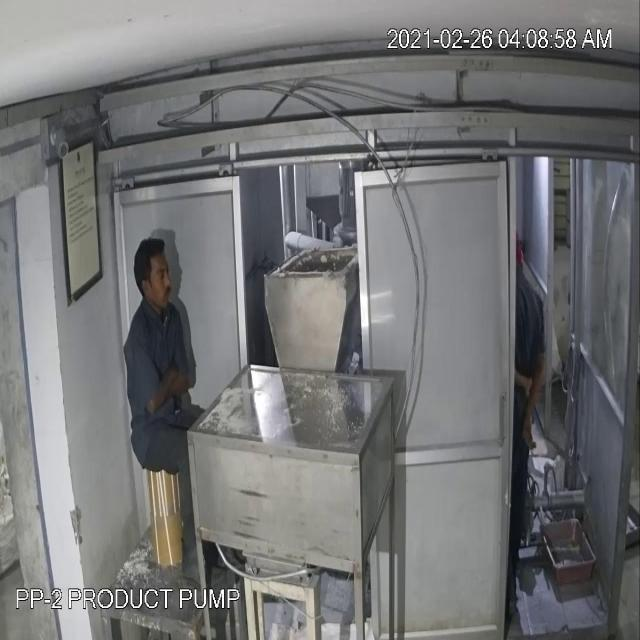no-helmet: (129, 228, 173, 286)
